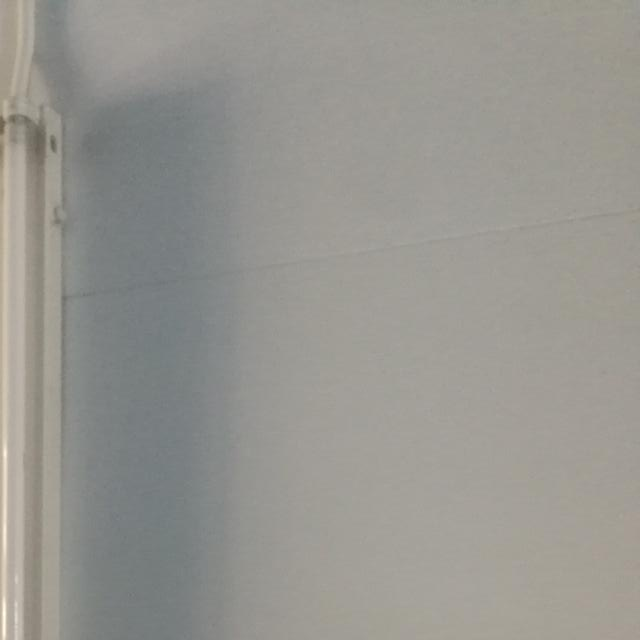fluorescent tube: (0, 84, 103, 640)
